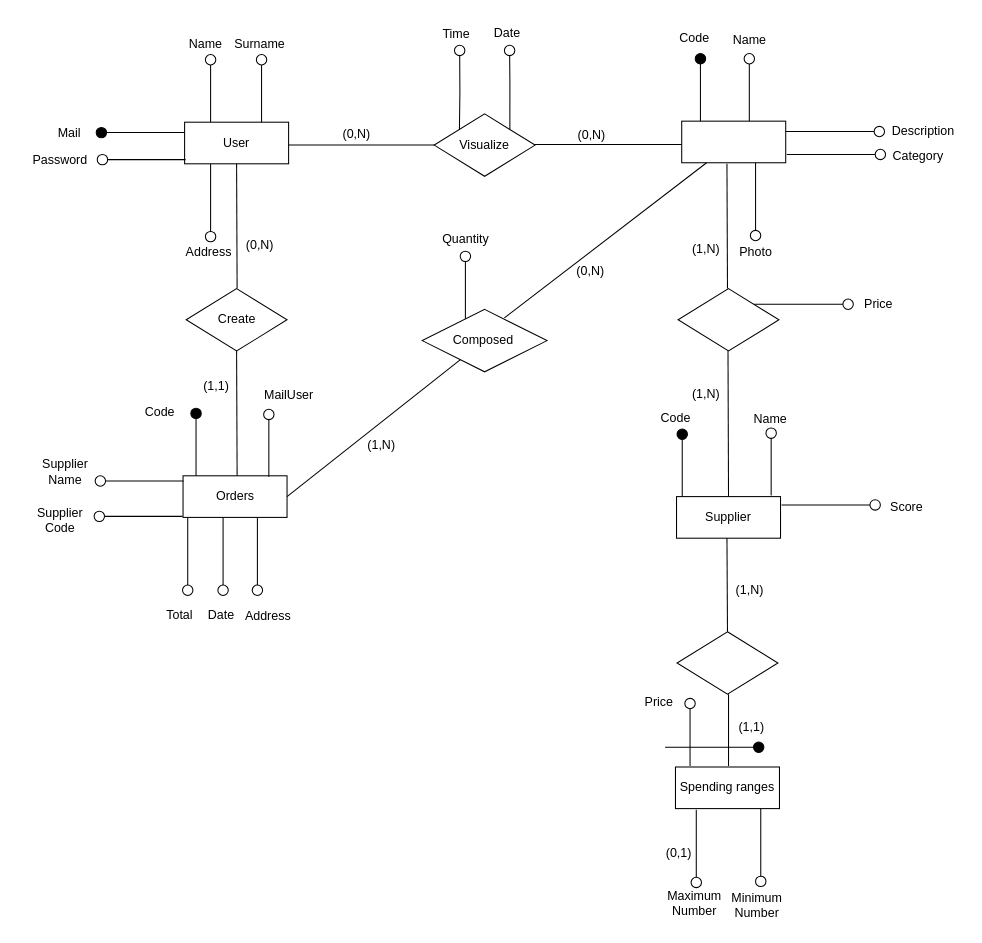
The diagram is 982 pixels wide and 943 high, and some of its shapes have lost their labels. The shapes that lost their labels are listed below. From the top down, each one's centre as x and y in pixels, then its label:
point 733,141: Product
point 728,319: Sold by
point 727,662: Take
